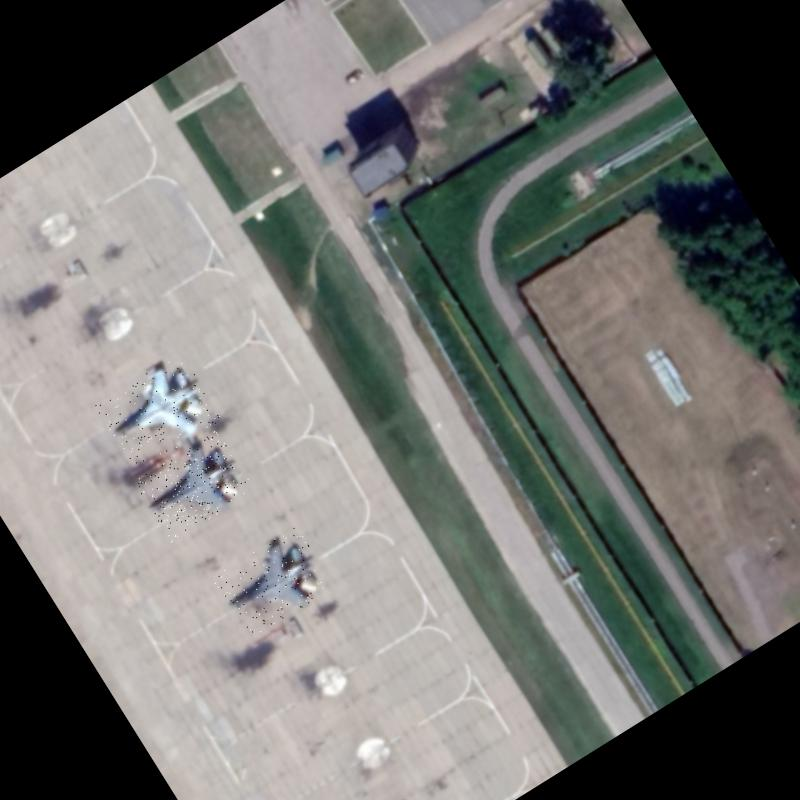A1: (95, 352, 223, 472), (212, 524, 337, 642), (134, 429, 256, 543)
